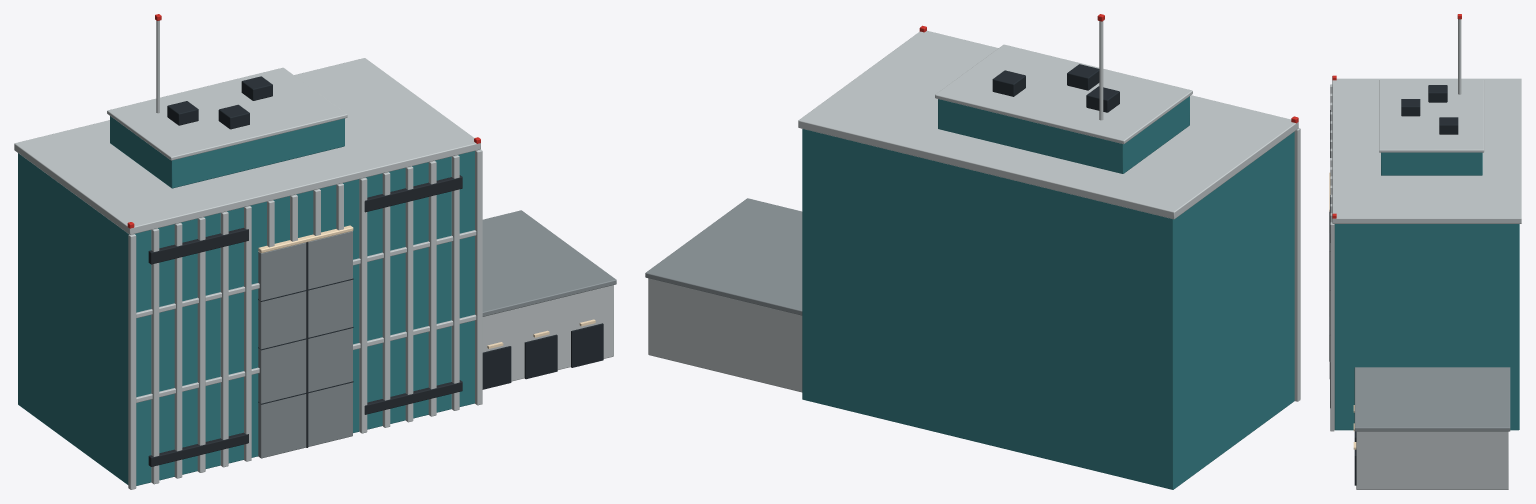
The model's file is hero_far_hall.fbx.
The picture shows the model from 3 angles, left to right: view 1: azimuth 30°, elevation 25°; view 2: azimuth 150°, elevation 25°; view 3: azimuth 270°, elevation 25°; orthographic projection. The views are drawn at different scales.
Visible parts, largest first — view 1: hero_far_hall; view 2: hero_far_hall; view 3: hero_far_hall.
Part boxes in pixels (left/top/right/bottom): hero_far_hall: left=14, top=14, right=616, bottom=489; hero_far_hall: left=645, top=14, right=1300, bottom=489; hero_far_hall: left=1329, top=14, right=1521, bottom=489.
Size of the model in its own units: 86.8 by 64.7 by 35.4.
